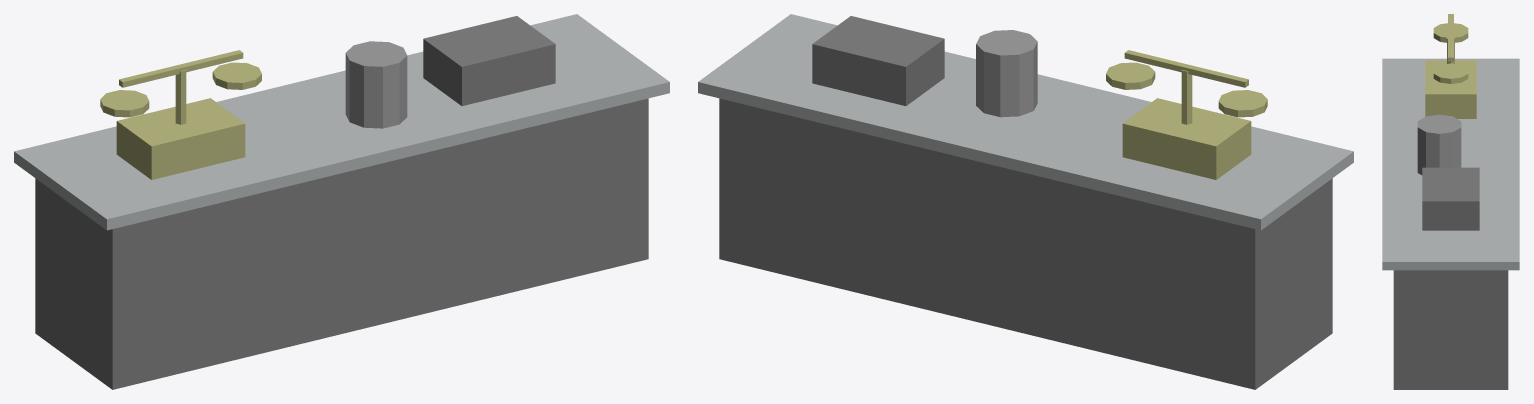
Rendered from counter.glb.
The picture shows the model from 3 angles, left to right: view 1: azimuth 30°, elevation 25°; view 2: azimuth 150°, elevation 25°; view 3: azimuth 270°, elevation 25°; orthographic projection. The views are drawn at different scales.
Parts seen in each view (by area): view 1: counter; view 2: counter; view 3: counter.
Boxes of the visible parts, left/top/right/bottom form: counter: left=14, top=14, right=669, bottom=389; counter: left=698, top=14, right=1353, bottom=389; counter: left=1382, top=14, right=1519, bottom=389.
Bounding box in the file's own units: 4.2 × 1.92 × 1.2.
